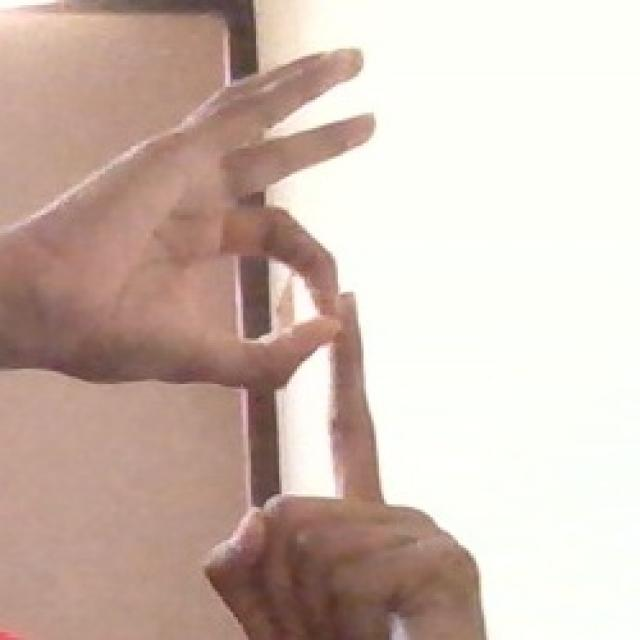Alphabet-P: (34, 34, 518, 640)
